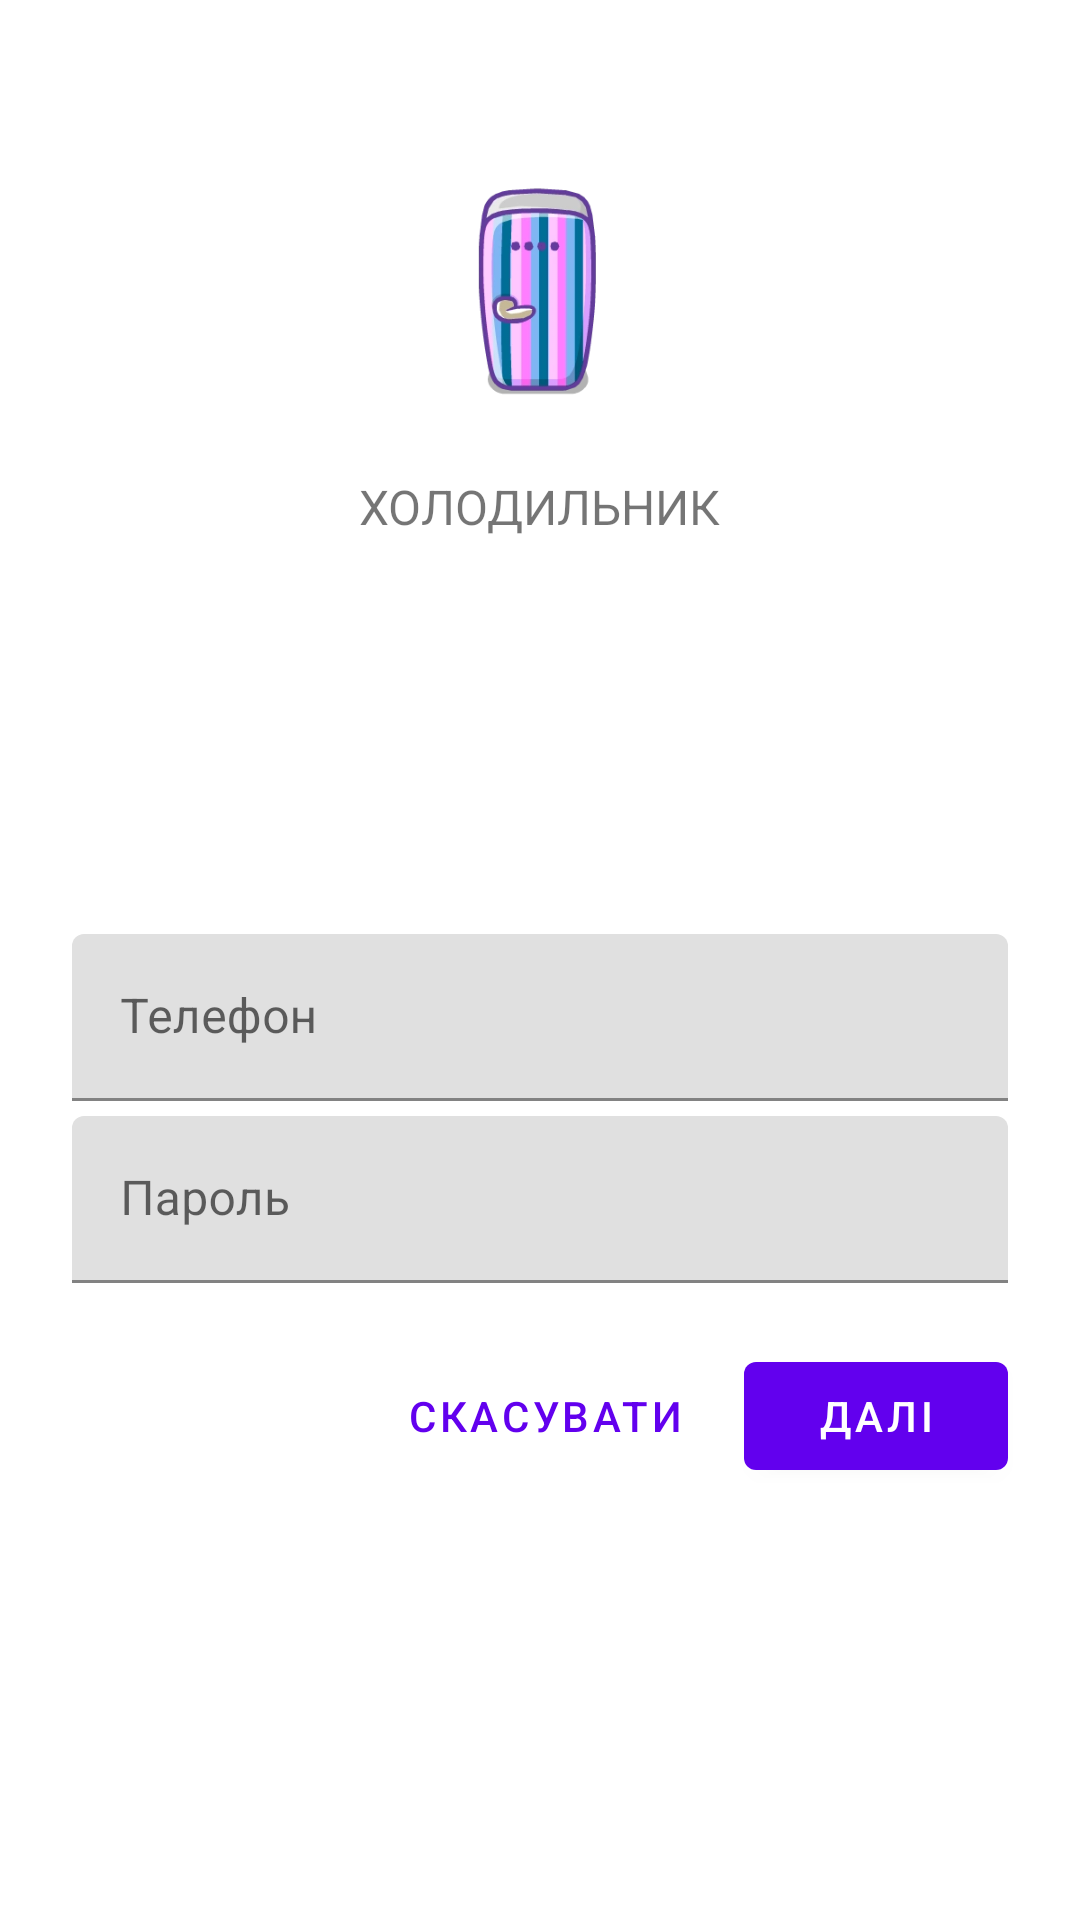

Locate icon controls on the screen. Image size 1080 × 1920, boxes as region(x1, y1, x2, y2).
cold: region(478, 188, 596, 394)
